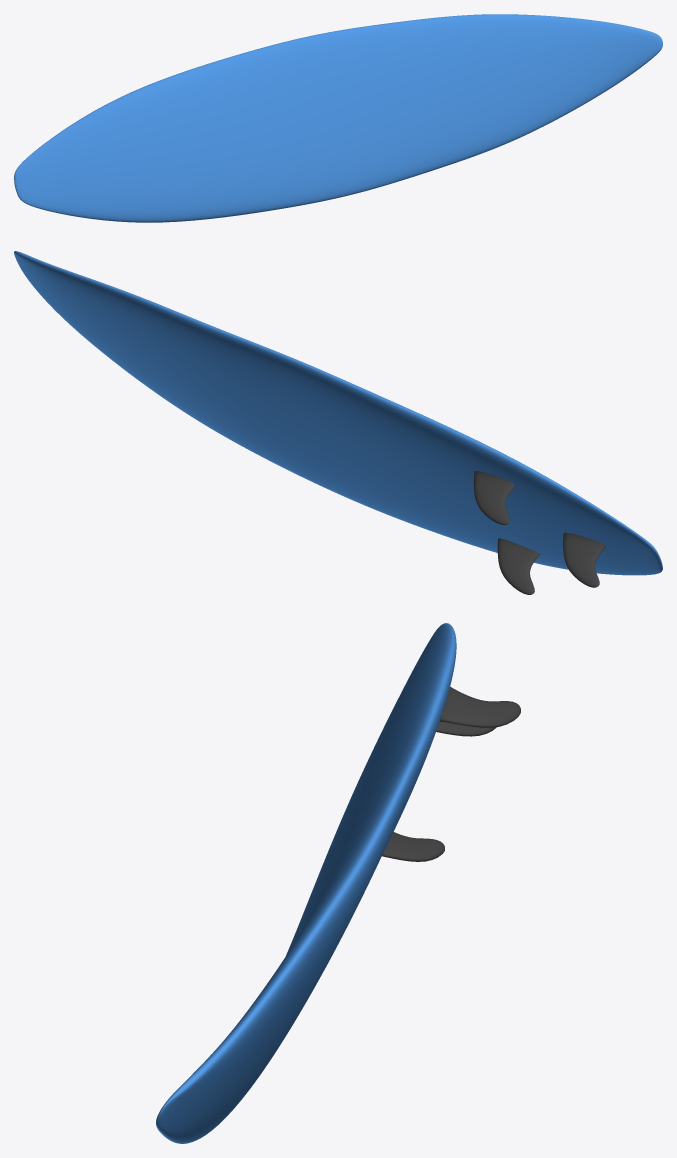
The model's file is Board.fbx.
The picture shows the model from 3 angles, top to bottom: view 1: azimuth 30°, elevation 25°; view 2: azimuth 150°, elevation 25°; view 3: azimuth 270°, elevation 25°; orthographic projection. The views are drawn at different scales.
Visible parts, largest first — view 1: Prancha; view 2: Prancha, Cube, Cube.001, Cube.002; view 3: Prancha, Cube.002, Cube.001.
Boxes of the visible parts, x1=… form: Prancha: x1=14, y1=14, x2=662, y2=222; Prancha: x1=14, y1=251, x2=662, y2=575; Cube: x1=563, y1=532, x2=606, y2=587; Cube.001: x1=497, y1=538, x2=540, y2=594; Cube.002: x1=473, y1=471, x2=515, y2=524; Prancha: x1=156, y1=623, x2=456, y2=1143; Cube.002: x1=439, y1=686, x2=520, y2=727; Cube.001: x1=382, y1=832, x2=444, y2=861.
Size of the model in its own units: 472 by 107 by 129.
